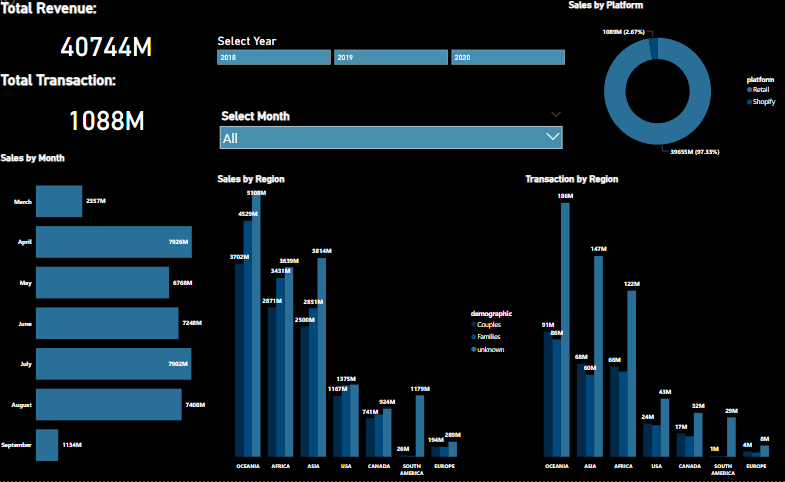

Layout of this report page (visuals, bound fields, positions):
{"tool":"powerbi","page":{"name":"Page 1","canvas":[1600,1000],"ordinal":0},"visuals":[{"type":"actionButton","box":[0,0,100,40],"z":0},{"type":"card","title":"Total Revenue:","fields":{"Values":["base_measures.Revenue"]},"box":[0,20.3,439,146.3],"z":1000},{"type":"card","title":"Total Transaction:","fields":{"Values":["Sum(public clean_weekly_sales.transactions)"]},"box":[0,166.7,439,154.5],"z":2000},{"type":"advancedSlicerVisual","title":"Select Year","fields":{"Values":["public clean_weekly_sales.calender_year"]},"box":[440.9,92.4,716,144.9],"z":3000},{"type":"clusteredColumnChart","title":"Sales by Region","fields":{"Category":["public clean_weekly_sales.region"],"Y":["Sum(public clean_weekly_sales.sales)"],"Series":["public clean_weekly_sales.demographic"]},"box":[440.9,373.8,625.7,625.7],"z":4000},{"type":"clusteredColumnChart","title":"Transaction by Region","fields":{"Category":["public clean_weekly_sales.region"],"Y":["Sum(public clean_weekly_sales.transactions)"],"Series":["public clean_weekly_sales.demographic"]},"box":[1066.7,373.8,533.3,625.7],"z":5000},{"type":"slicer","fields":{"Values":["public clean_weekly_sales.week_date.Variation.Date Hierarchy.Month"]},"box":[440.9,239.4,716,134.4],"z":6000},{"type":"donutChart","title":"Sales by Platform","fields":{"Y":["Sum(public clean_weekly_sales.sales)"],"Category":["public clean_weekly_sales.platform"]},"box":[1154.9,21,445.1,352.8],"z":7000},{"type":"clusteredBarChart","title":"Sales by Month","fields":{"Category":["public clean_weekly_sales.week_date.Variation.Date Hierarchy.Month"],"Y":["Sum(public clean_weekly_sales.sales)"]},"box":[0,331.8,440.9,667.7],"z":8000}]}

Visuals, with their boxes in screenshot pixels (x1, y1, x2, y2), scaled from the page's 1600x1000 canvas onto the 785x482 screenshot:
actionButton: (0, 0, 49, 19)
"Total Revenue:" card: (0, 10, 215, 80)
"Total Transaction:" card: (0, 80, 215, 155)
"Select Year" advancedSlicerVisual: (216, 45, 568, 114)
"Sales by Region" clusteredColumnChart: (216, 180, 523, 481)
"Transaction by Region" clusteredColumnChart: (523, 180, 784, 481)
slicer - public clean_weekly_sales.week_date.Variation.Date Hierarchy.Month: (216, 115, 568, 180)
"Sales by Platform" donutChart: (567, 10, 784, 180)
"Sales by Month" clusteredBarChart: (0, 160, 216, 481)
